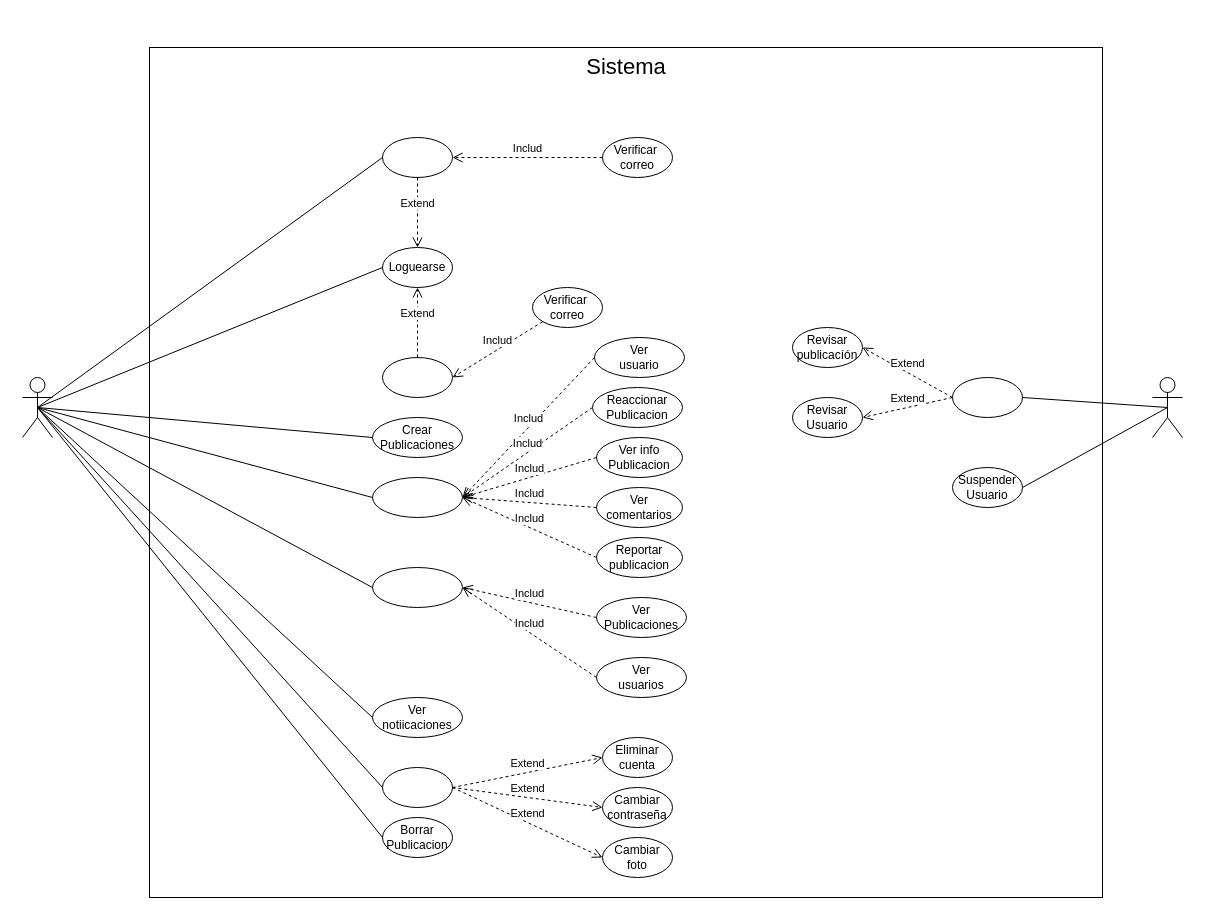
Image size: 1222x915. Some labels were removed from this diagram. Each missing label, with the centre of its shape:
"Administrador" goes at [1167,407].
"Crear cuenta" goes at [417,157].
"Editar Perfil" goes at [417,787].
"Filtrar" goes at [417,587].
"Gestionar Reportes" goes at [987,397].
"Interactuar Publicaciones" goes at [417,497].
"Recuperar cuenta" goes at [417,377].
"Usuario" goes at [37,407].
